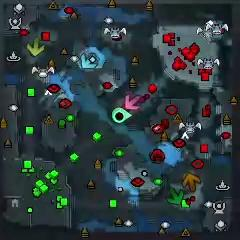p2: (113, 107, 132, 122)
p2Clone: (113, 111, 126, 123)
x1: (125, 94, 141, 111)
x2: (26, 38, 45, 56)
x3: (81, 52, 97, 69)
x4: (168, 186, 184, 205)
x5: (182, 172, 201, 191)
